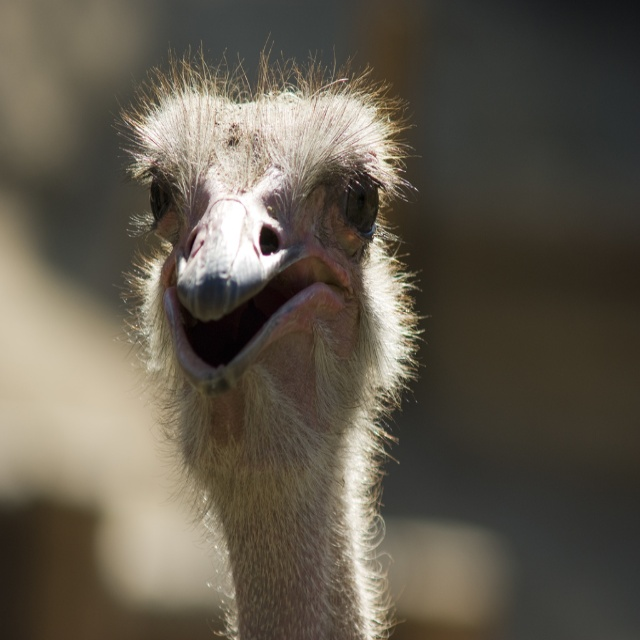Ostrich: (122, 78, 418, 639)
